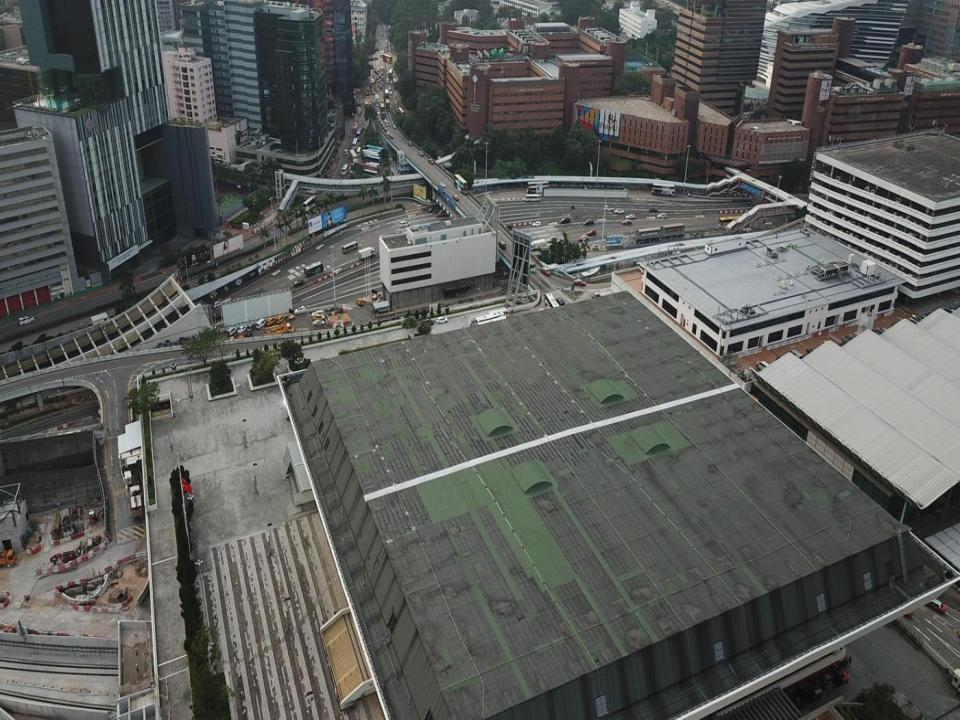bus: (543, 293, 562, 319), (474, 312, 504, 327), (718, 214, 744, 228), (636, 227, 660, 242), (661, 222, 684, 237), (651, 183, 675, 197), (365, 144, 384, 161), (303, 261, 324, 276), (454, 173, 468, 194), (488, 308, 509, 322), (362, 154, 381, 168), (302, 195, 318, 211), (360, 162, 378, 176), (361, 149, 379, 163), (362, 152, 381, 164), (365, 147, 381, 161), (360, 168, 378, 180), (342, 240, 358, 253), (523, 256, 536, 272), (362, 162, 379, 174), (368, 161, 380, 172), (524, 194, 540, 202), (349, 149, 357, 163), (398, 107, 406, 120), (356, 127, 363, 141), (351, 137, 358, 151), (348, 162, 356, 174), (383, 54, 393, 63), (341, 164, 349, 174), (380, 102, 386, 115), (384, 88, 389, 102), (388, 68, 393, 80), (356, 146, 361, 157), (386, 99, 390, 112), (381, 110, 386, 120), (378, 53, 386, 58), (353, 122, 357, 132), (376, 111, 380, 119), (364, 101, 368, 108), (388, 25, 391, 32), (344, 149, 348, 154), (381, 66, 383, 73)
car: (894, 596, 914, 618), (923, 595, 946, 614), (827, 652, 848, 670), (876, 327, 894, 340), (870, 329, 884, 340), (211, 300, 224, 308), (540, 267, 551, 276), (179, 336, 187, 348), (436, 316, 448, 324), (806, 348, 818, 356), (312, 319, 325, 326), (212, 312, 223, 320), (236, 326, 247, 334), (592, 291, 603, 299), (574, 279, 586, 286), (157, 342, 165, 352), (294, 279, 304, 287), (555, 297, 565, 305), (900, 264, 908, 273), (614, 207, 624, 214), (621, 219, 632, 225), (914, 275, 925, 281), (578, 235, 588, 241), (625, 214, 635, 220), (532, 221, 541, 227), (821, 171, 830, 177), (188, 336, 193, 346), (830, 222, 838, 228), (896, 253, 905, 258), (428, 158, 434, 165), (824, 219, 830, 226), (818, 219, 827, 223), (892, 249, 898, 255), (418, 151, 424, 156), (440, 182, 446, 187), (452, 195, 458, 200), (408, 141, 413, 146), (392, 123, 396, 129), (368, 57, 375, 60), (382, 124, 386, 129), (390, 79, 394, 83), (386, 130, 390, 134), (389, 134, 393, 138), (380, 121, 383, 126), (384, 127, 387, 132), (374, 57, 378, 60), (388, 86, 391, 90), (378, 118, 381, 122), (375, 84, 377, 89), (386, 71, 389, 74), (382, 32, 384, 36), (382, 71, 384, 75), (389, 91, 391, 94), (376, 88, 378, 91)
truck: (260, 322, 294, 340), (129, 484, 143, 520), (230, 331, 252, 345), (0, 549, 16, 565), (358, 246, 375, 259), (529, 238, 546, 251)
van: (786, 349, 803, 365), (819, 340, 836, 354), (17, 315, 35, 326), (909, 313, 924, 326), (918, 314, 933, 327), (942, 306, 956, 318), (756, 361, 770, 372), (887, 233, 901, 243), (866, 211, 878, 222), (888, 258, 900, 268), (905, 215, 918, 224), (813, 214, 826, 223), (256, 318, 266, 329), (266, 316, 277, 326), (880, 204, 891, 214), (894, 262, 905, 272), (226, 327, 238, 336), (276, 314, 286, 324), (422, 318, 434, 326), (908, 230, 920, 238), (829, 210, 841, 218), (809, 211, 821, 219), (311, 310, 324, 317), (247, 322, 256, 332), (870, 188, 880, 197), (895, 197, 905, 206), (313, 313, 324, 321), (835, 174, 846, 182), (846, 190, 854, 201), (908, 270, 919, 278), (917, 262, 927, 270), (583, 219, 594, 226), (863, 187, 874, 194), (498, 241, 506, 250), (885, 247, 894, 255), (165, 339, 172, 349), (547, 235, 557, 242), (560, 217, 570, 224), (603, 205, 614, 211), (587, 229, 596, 236), (356, 298, 363, 306), (650, 207, 658, 214), (657, 212, 666, 218), (385, 78, 389, 84), (385, 122, 389, 126), (379, 85, 382, 89), (384, 118, 387, 122), (386, 67, 389, 70)
